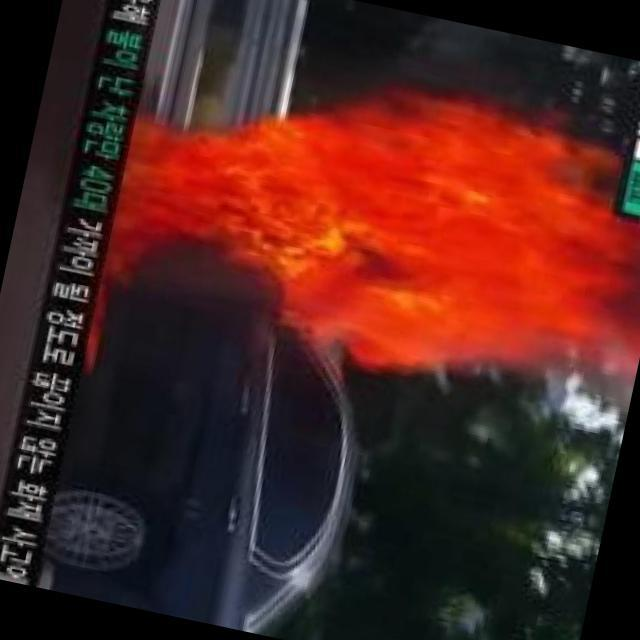Fire: (101, 63, 622, 360)
